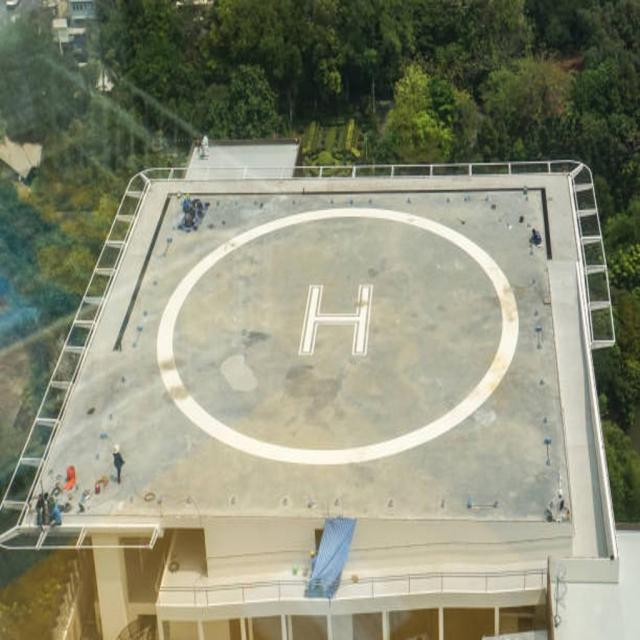helipad: (152, 204, 520, 466)
